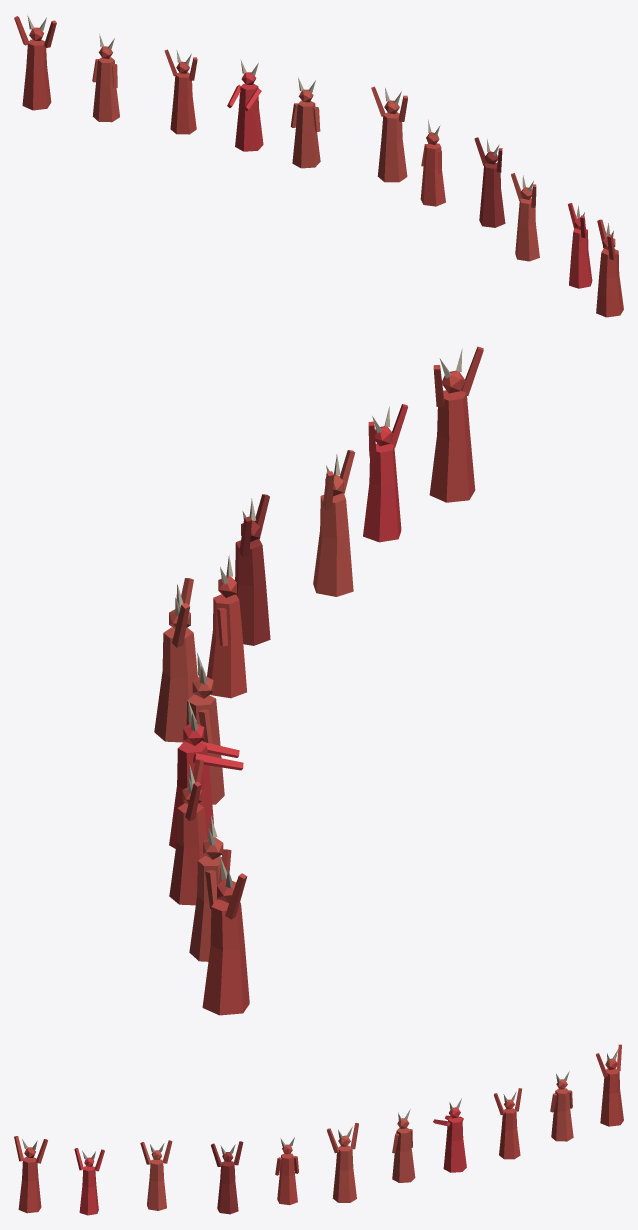
File: Stands_7_1_0_Ice.obj
3 renders of one model, top to bottom at view 1: azimuth 30°, elevation 25°; view 2: azimuth 150°, elevation 25°; view 3: azimuth 270°, elevation 25°, orthographic. The views are drawn at different scales.
Parts seen in each view (by area): view 1: Stands_7_1_0_Ice; view 2: Stands_7_1_0_Ice; view 3: Stands_7_1_0_Ice.
Part boxes in pixels (box(x1,y1,x2,y2)): Stands_7_1_0_Ice: box(14, 15, 623, 317); Stands_7_1_0_Ice: box(154, 346, 483, 1015); Stands_7_1_0_Ice: box(14, 1044, 623, 1215).
Size of the model in its own units: 12.73 by 4.26 by 32.6.
Materials: 1 (1 with a texture image).
